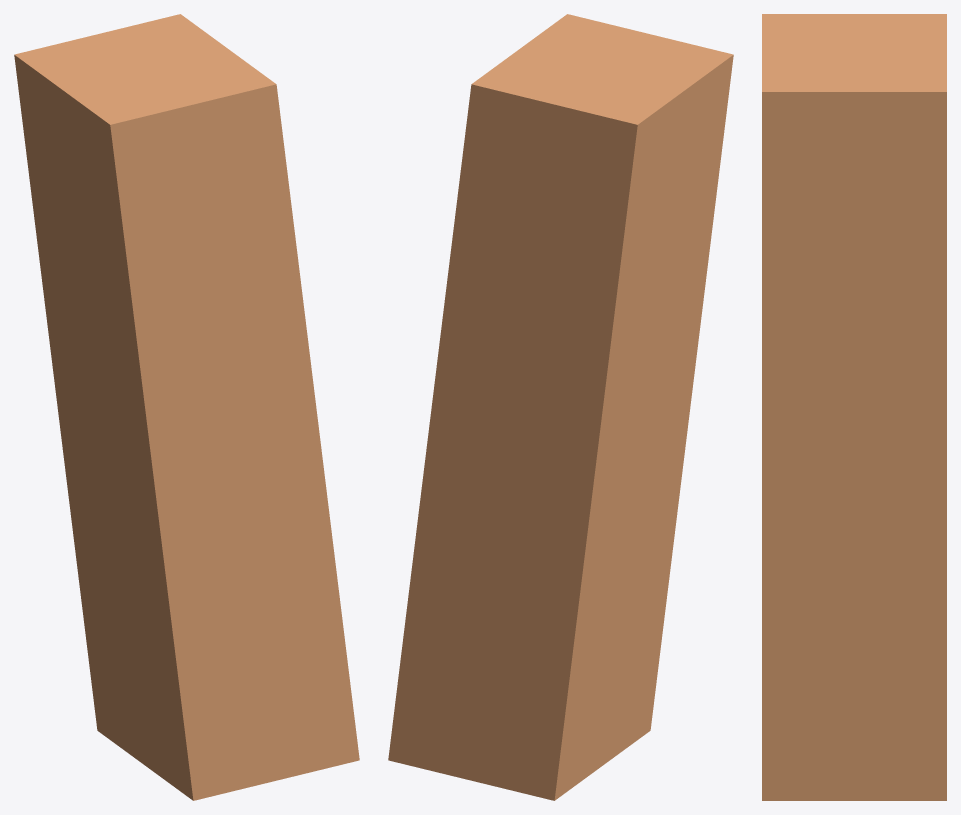
Rendered from plain.gltf.
3 views of the same model, side by side, from view 1: azimuth 30°, elevation 25°; view 2: azimuth 150°, elevation 25°; view 3: azimuth 270°, elevation 25° (orthographic). The views are drawn at different scales.
Visible parts, largest first — view 1: Pillar; view 2: Pillar; view 3: Pillar.
Boxes of the visible parts, x1,y1,x2,y2 form: Pillar: (14,14,359,800); Pillar: (388,14,733,800); Pillar: (762,14,946,800).
Size of the model in its own units: 0.75 by 2 by 0.5.
